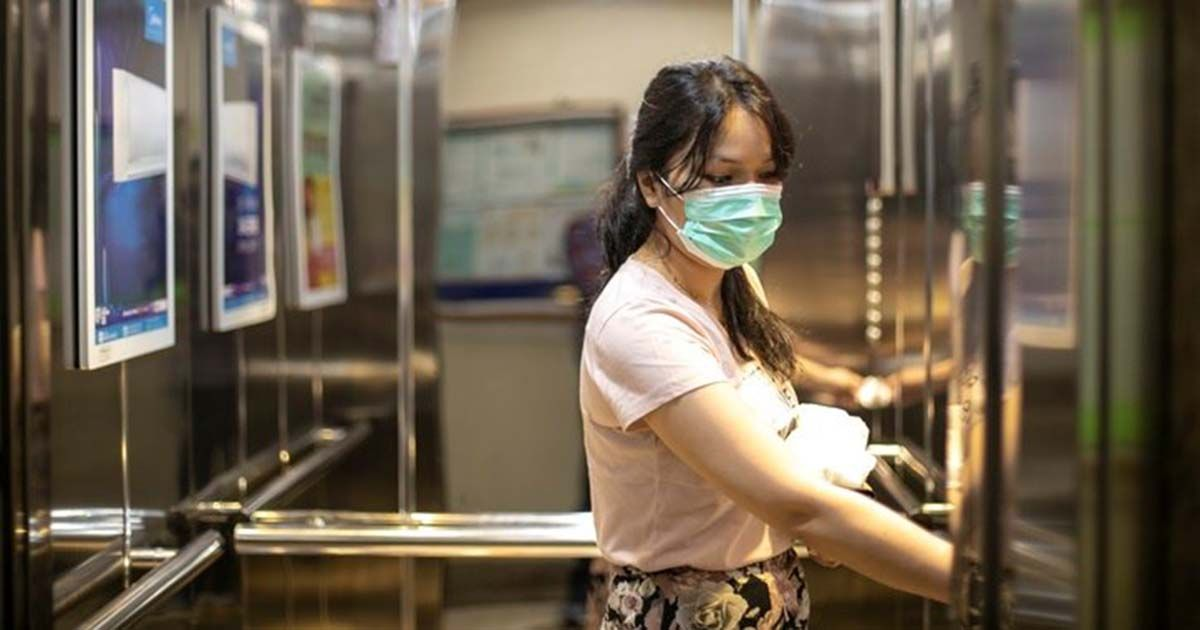with_mask: (634, 76, 802, 287)
